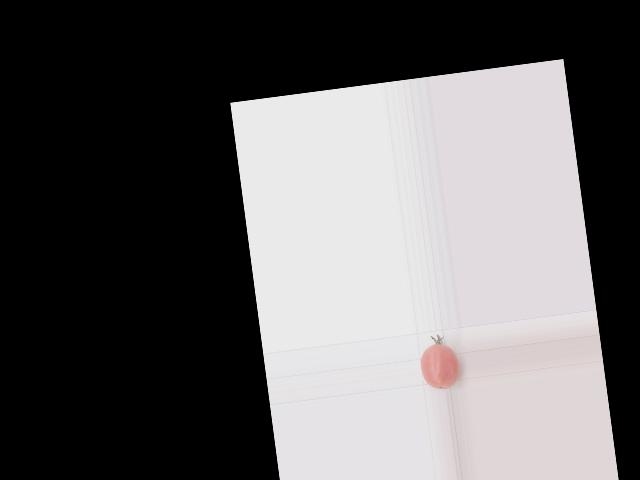tomato: (418, 341, 461, 391)
